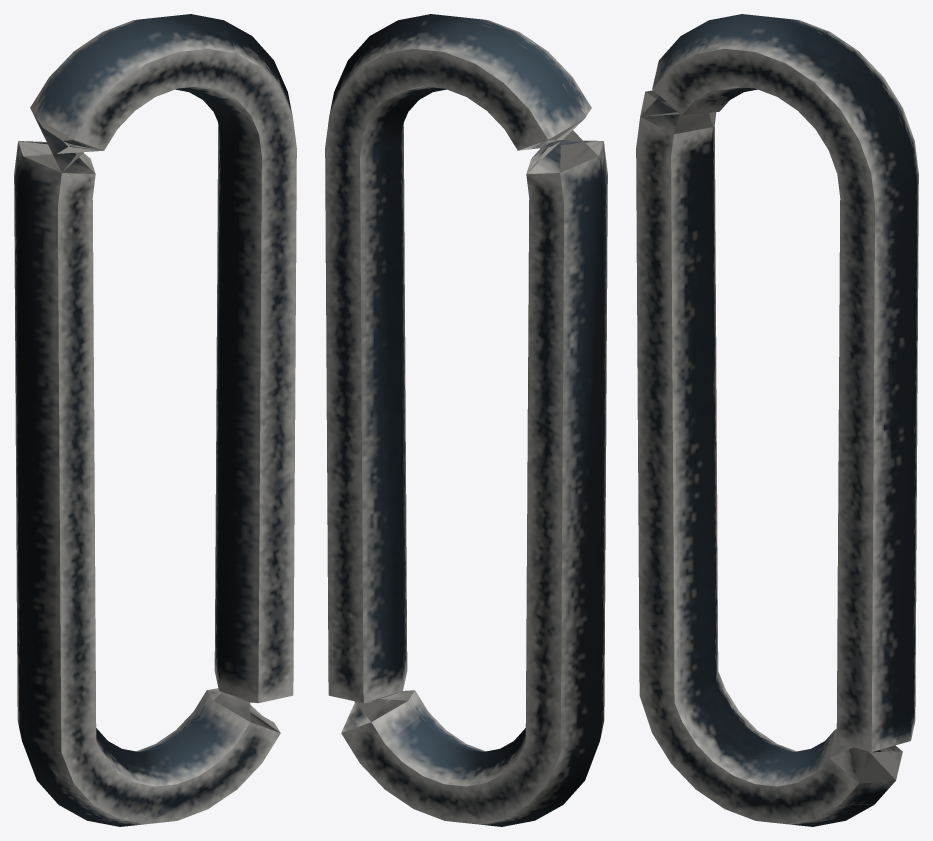
File: Anchorline_ChainLink.fbx
The picture shows the model from 3 angles, left to right: view 1: azimuth 30°, elevation 25°; view 2: azimuth 150°, elevation 25°; view 3: azimuth 330°, elevation 25°; orthographic projection.
Visible parts, largest first — view 1: Anchorline_ChainLink; view 2: Anchorline_ChainLink; view 3: Anchorline_ChainLink.
Boxes of the visible parts, x1,y1,x2,y2 form: Anchorline_ChainLink: [14, 14, 296, 826]; Anchorline_ChainLink: [325, 14, 607, 826]; Anchorline_ChainLink: [636, 14, 918, 826].
Bounding box in the file's own units: 0.094 × 0.264 × 0.026.
